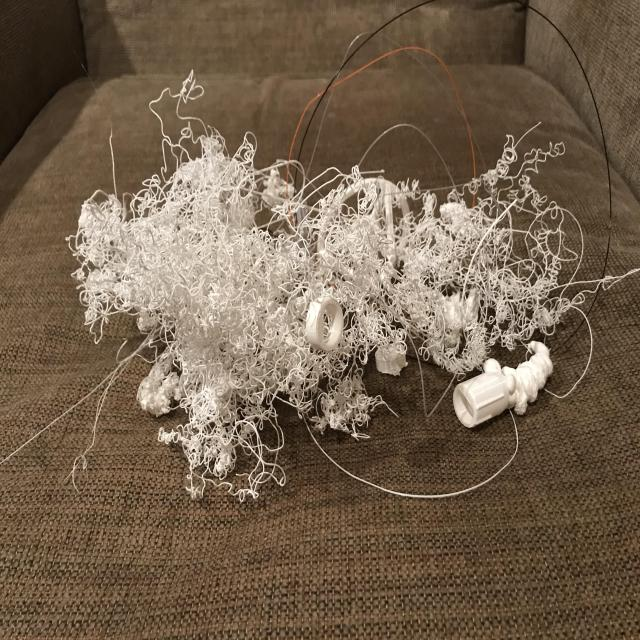Spaghetti: (72, 70, 631, 509)
